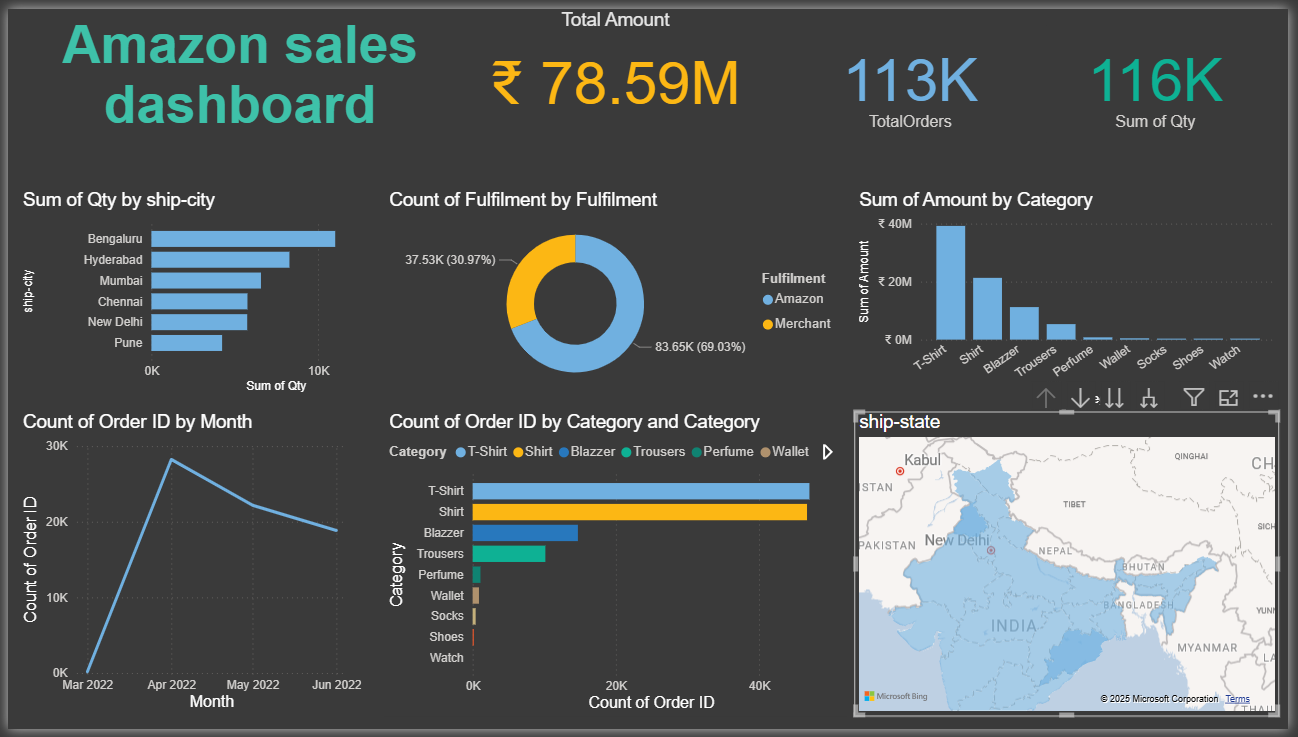

The page's visual inventory and layout, read from the dashboard file:
{"tool":"powerbi","page":{"name":"Page 1","canvas":[1280,720],"ordinal":0},"visuals":[{"type":"card","title":"Total Amount","fields":{"Values":["Sum(Cleaned_Amazon_Sales_Report.Amount)","select"]},"box":[470,0,275,117.5],"z":0},{"type":"card","fields":{"Values":["Sum(Cleaned_Amazon_Sales_Report.Qty)"]},"box":[1038.8,16.2,217.5,117.5],"z":1000},{"type":"card","fields":{"Values":["Cleaned_Amazon_Sales_Report.TotalOrders"]},"box":[766.2,16.2,272.5,117.5],"z":2000},{"type":"lineChart","fields":{"Category":["Cleaned_Amazon_Sales_Report.Month"],"Y":["CountNonNull(Cleaned_Amazon_Sales_Report.Order ID)"]},"box":[10,402.9,348.6,304.3],"z":3000},{"type":"barChart","fields":{"Category":["Cleaned_Amazon_Sales_Report.Category"],"Y":["CountNonNull(Cleaned_Amazon_Sales_Report.Order ID)"],"Series":["Cleaned_Amazon_Sales_Report.Category"]},"box":[376.2,402.5,462.5,305],"z":4000},{"type":"clusteredColumnChart","fields":{"Y":["Sum(Cleaned_Amazon_Sales_Report.Amount)"],"Category":["Cleaned_Amazon_Sales_Report.Category"]},"box":[845.7,180,425.7,221.4],"z":5000},{"type":"barChart","fields":{"Category":["Cleaned_Amazon_Sales_Report.ship-city"],"Y":["Sum(Cleaned_Amazon_Sales_Report.Qty)"]},"box":[10,180,407.5,208.8],"z":6000},{"type":"donutChart","fields":{"Category":["Cleaned_Amazon_Sales_Report.Fulfilment"],"Y":["CountNonNull(Cleaned_Amazon_Sales_Report.Fulfilment)"]},"box":[376.2,180,462.5,208.8],"z":7000},{"type":"filledMap","fields":{"Category":["Cleaned_Amazon_Sales_Report.ship-state","Cleaned_Amazon_Sales_Report.ship-city","Cleaned_Amazon_Sales_Report.Qty"]},"box":[845.7,402.9,425.7,304.3],"z":8000},{"type":"textbox","box":[10,0,444.3,150],"z":9000}]}

Visuals, with their boxes in screenshot pixels (x1, y1, x2, y2), scaled from the page's 1280x720 canvas onto the 1298x737 screenshot:
"Total Amount" card: crop(477, 0, 755, 120)
card - Sum(Cleaned_Amazon_Sales_Report.Qty): crop(1053, 17, 1274, 137)
card - Cleaned_Amazon_Sales_Report.TotalOrders: crop(777, 17, 1053, 137)
lineChart - Cleaned_Amazon_Sales_Report.Month x CountNonNull(Cleaned_Amazon_Sales_Report.Order ID): crop(10, 412, 364, 724)
barChart - Cleaned_Amazon_Sales_Report.Category x CountNonNull(Cleaned_Amazon_Sales_Report.Order ID): crop(381, 412, 850, 724)
clusteredColumnChart - Sum(Cleaned_Amazon_Sales_Report.Amount) x Cleaned_Amazon_Sales_Report.Category: crop(858, 184, 1289, 411)
barChart - Cleaned_Amazon_Sales_Report.ship-city x Sum(Cleaned_Amazon_Sales_Report.Qty): crop(10, 184, 423, 398)
donutChart - Cleaned_Amazon_Sales_Report.Fulfilment x CountNonNull(Cleaned_Amazon_Sales_Report.Fulfilment): crop(381, 184, 850, 398)
filledMap - Cleaned_Amazon_Sales_Report.ship-state x Cleaned_Amazon_Sales_Report.ship-city: crop(858, 412, 1289, 724)
textbox: crop(10, 0, 461, 154)
